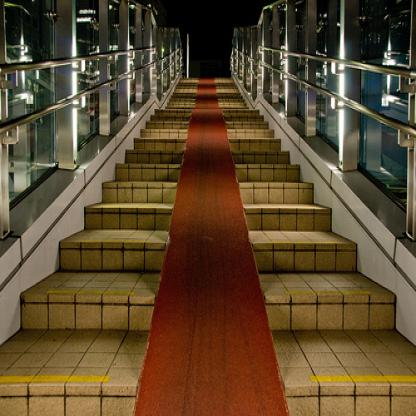stairs: (63, 243, 120, 416)
